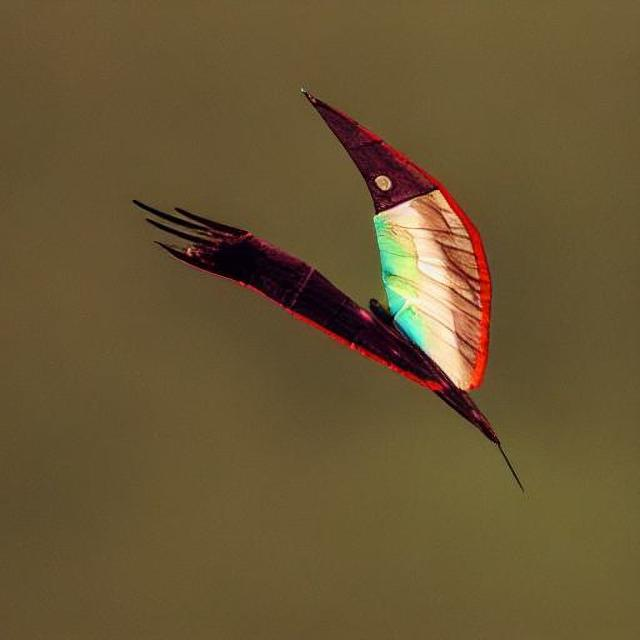floating object: (132, 88, 516, 480)
